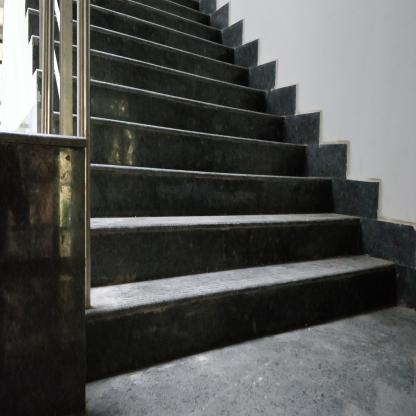stairs: (93, 52, 254, 395)
